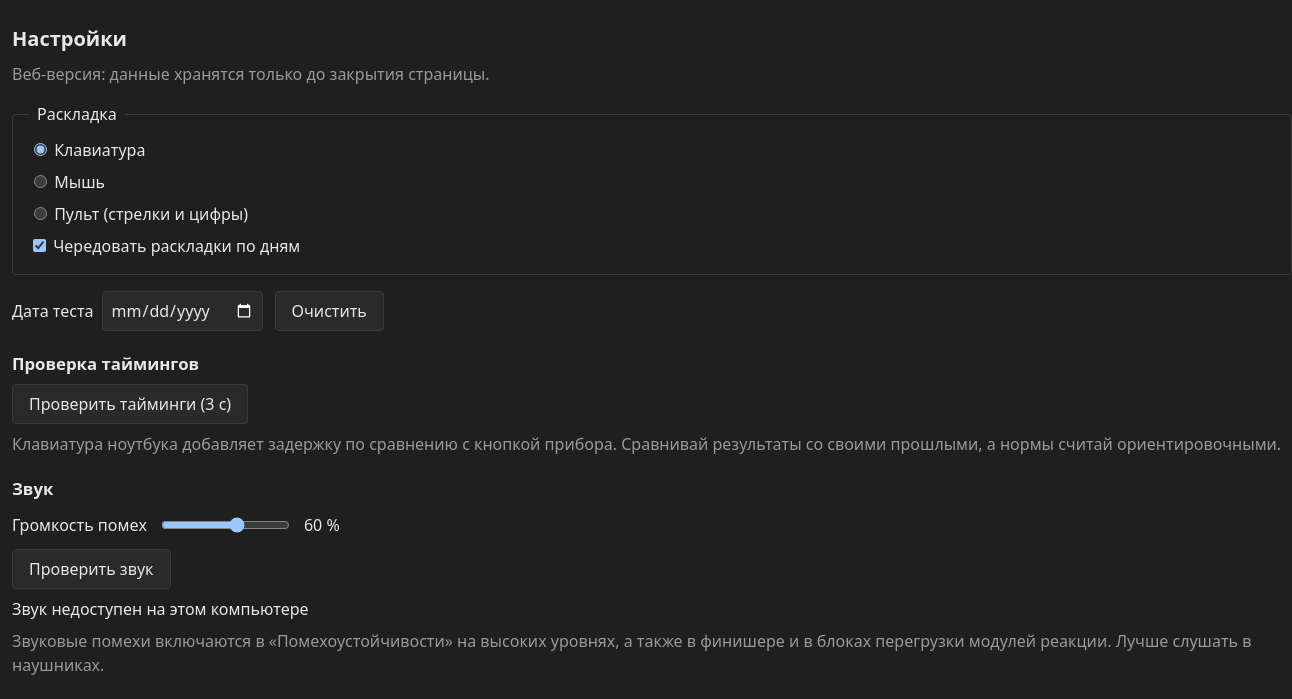
Scenario: Settings layout and date › saves the test date and clears it
The image size is (1292, 699).
Type "2026-12-01" into the date field labelled "Дата теста".
click(182, 311); type("2026-12-01")  # box [102, 291, 262, 331]
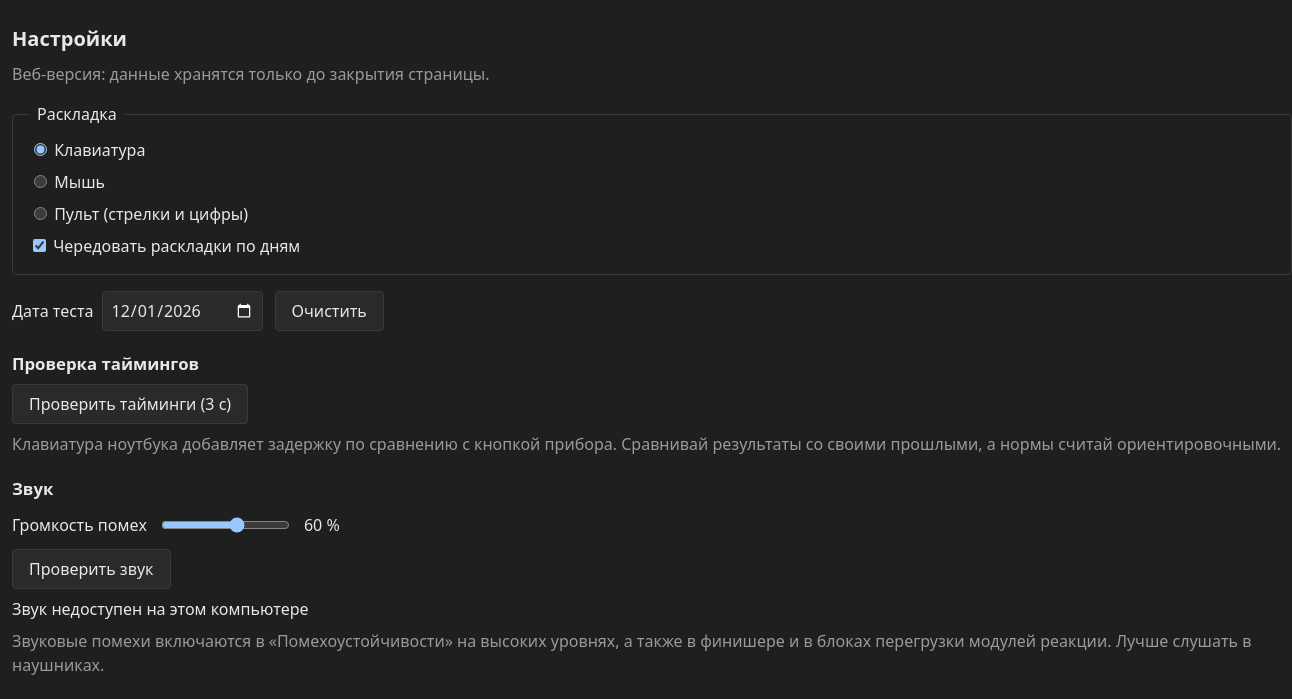
Click the button "Очистить".
click(329, 311)  # box [274, 291, 384, 331]
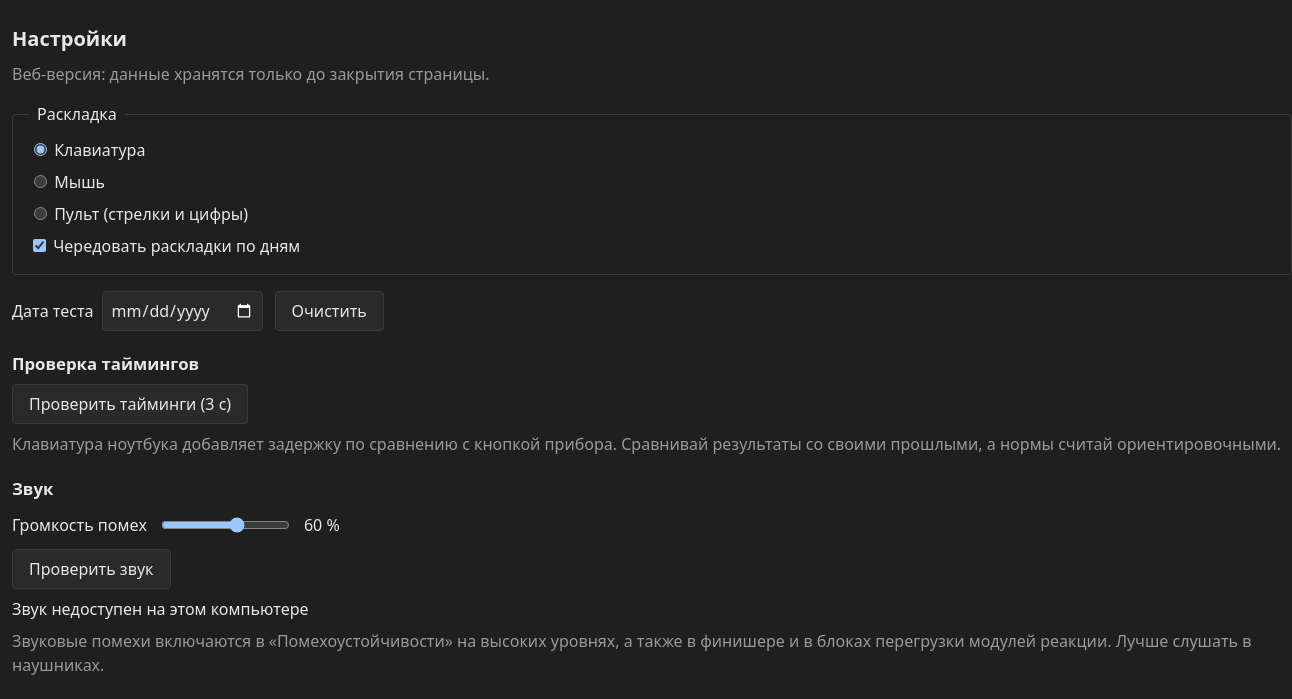
Expected: the date field labelled "Дата теста" is empty, [102, 291, 262, 331]
